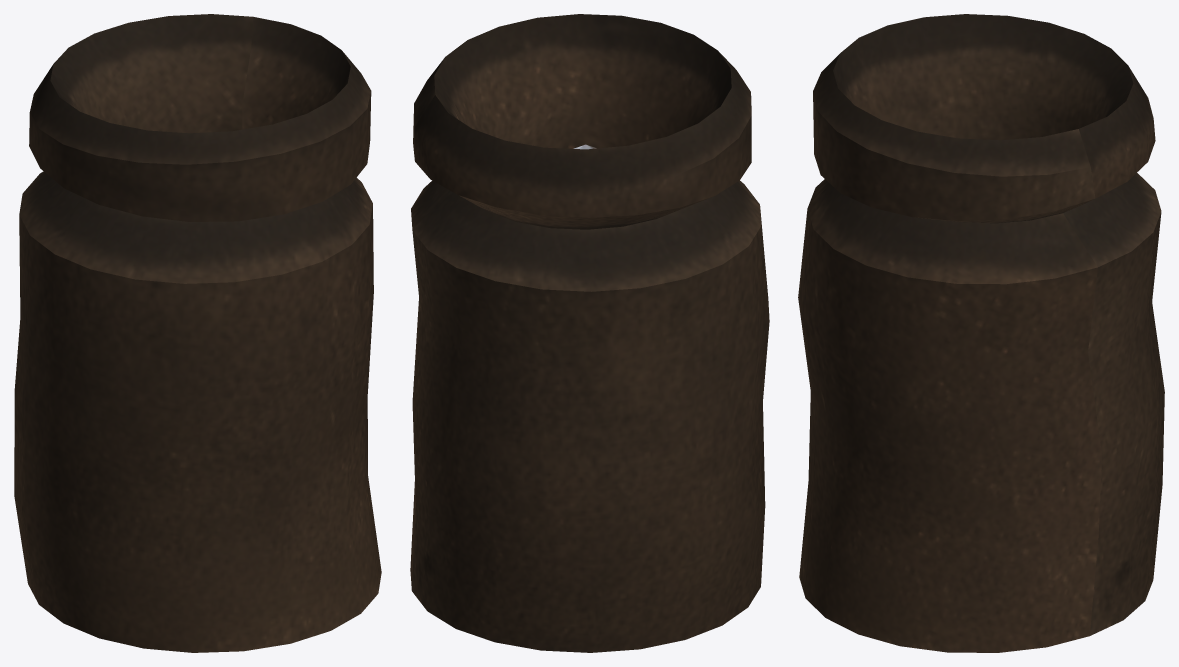
Rendered from prop_trash_bin_cesta.glb.
3 views of the same model, side by side, from view 1: azimuth 30°, elevation 25°; view 2: azimuth 150°, elevation 25°; view 3: azimuth 270°, elevation 25° (orthographic).
Parts seen in each view (by area): view 1: prop_trash_bin_cesta_mesh; view 2: prop_trash_bin_cesta_mesh; view 3: prop_trash_bin_cesta_mesh.
Part boxes in pixels (x1=…): prop_trash_bin_cesta_mesh: x1=14, y1=14, x2=381, y2=652; prop_trash_bin_cesta_mesh: x1=410, y1=14, x2=769, y2=652; prop_trash_bin_cesta_mesh: x1=798, y1=14, x2=1164, y2=652.
Bounding box in the file's own units: 0.6478 × 1 × 0.6567.
1 material, 1 textured.
